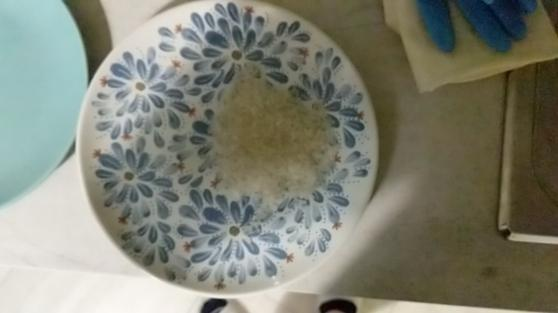rice: (193, 55, 339, 211)
